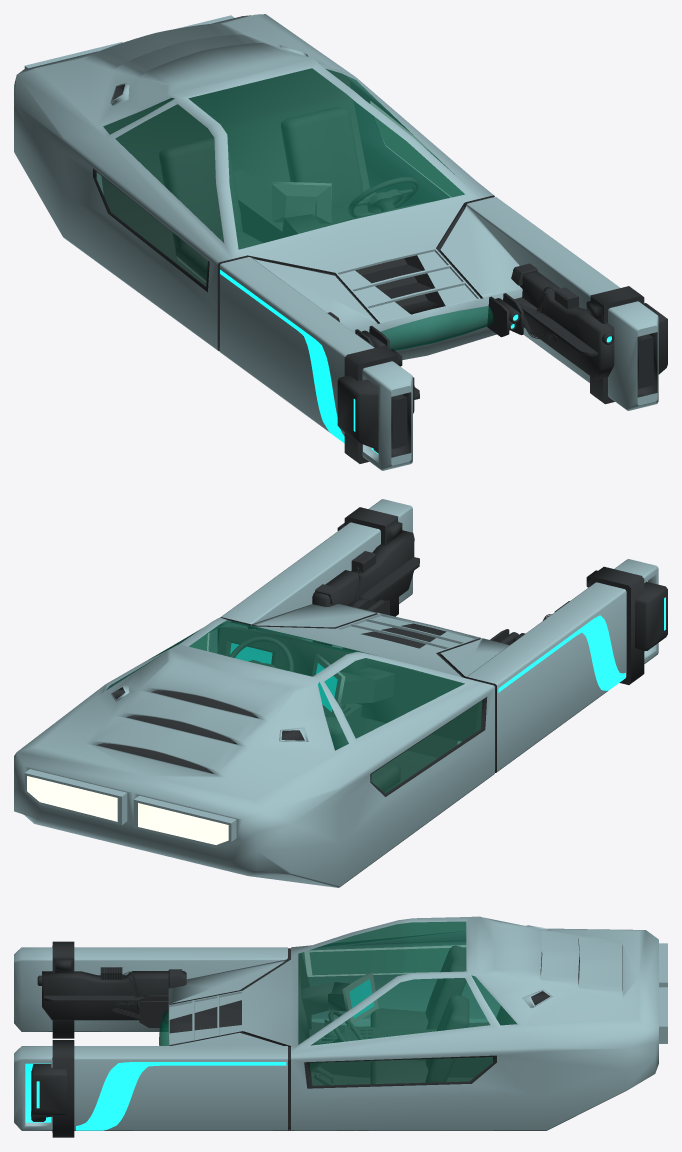
3 renders of one model, top to bottom at view 1: azimuth 30°, elevation 25°; view 2: azimuth 150°, elevation 25°; view 3: azimuth 270°, elevation 25°, orthographic. The views are drawn at different scales.
Parts seen in each view (by area): view 1: Car, Interior; view 2: Car, Interior; view 3: Car, Interior.
Boxes of the visible parts, <box> form: Car: <box>14,14,667,470</box>; Interior: <box>101,68,427,286</box>; Car: <box>14,499,667,887</box>; Interior: <box>217,627,481,793</box>; Car: <box>14,916,667,1137</box>; Interior: <box>298,946,516,1085</box>.
Bounding box in the file's own units: 3.82 × 1.93 × 8.44.
